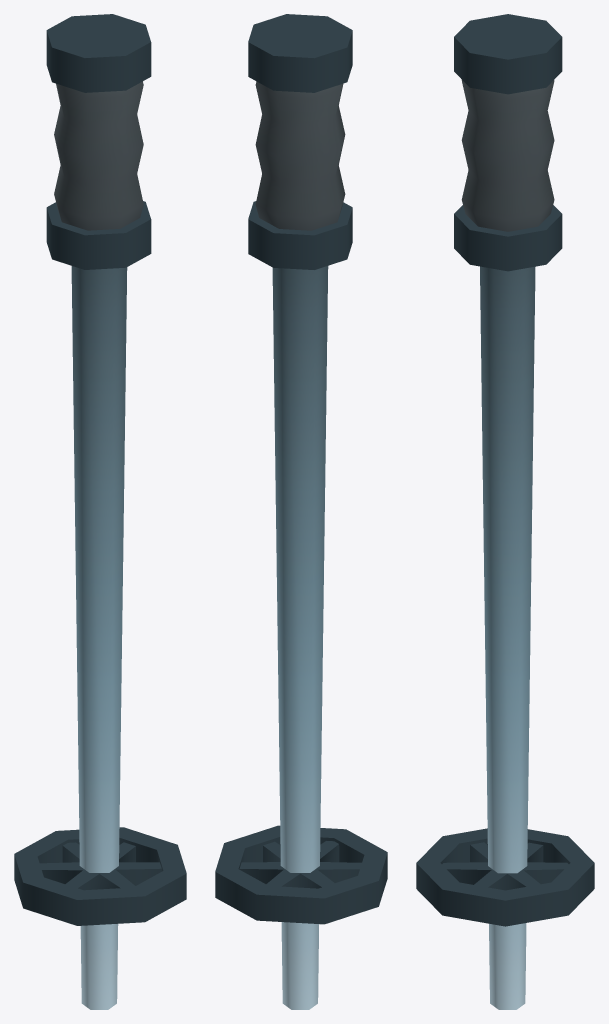
Rendered from stick_001.glb.
The picture shows the model from 3 angles, left to right: view 1: azimuth 30°, elevation 25°; view 2: azimuth 150°, elevation 25°; view 3: azimuth 270°, elevation 25°; orthographic projection.
Visible parts, largest first — view 1: stick_001; view 2: stick_001; view 3: stick_001.
Part boxes in pixels (left/top/right/bottom): stick_001: left=14, top=14, right=186, bottom=1009; stick_001: left=215, top=14, right=387, bottom=1009; stick_001: left=416, top=14, right=594, bottom=1009.
Bounding box in the file's own units: 0.4388 × 2.62 × 0.4388.
1 material, 1 textured.
